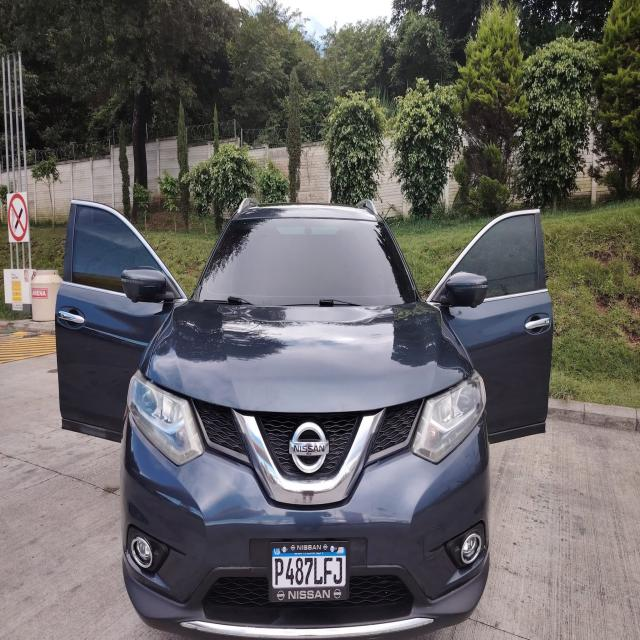Placas: (268, 538, 355, 612)
